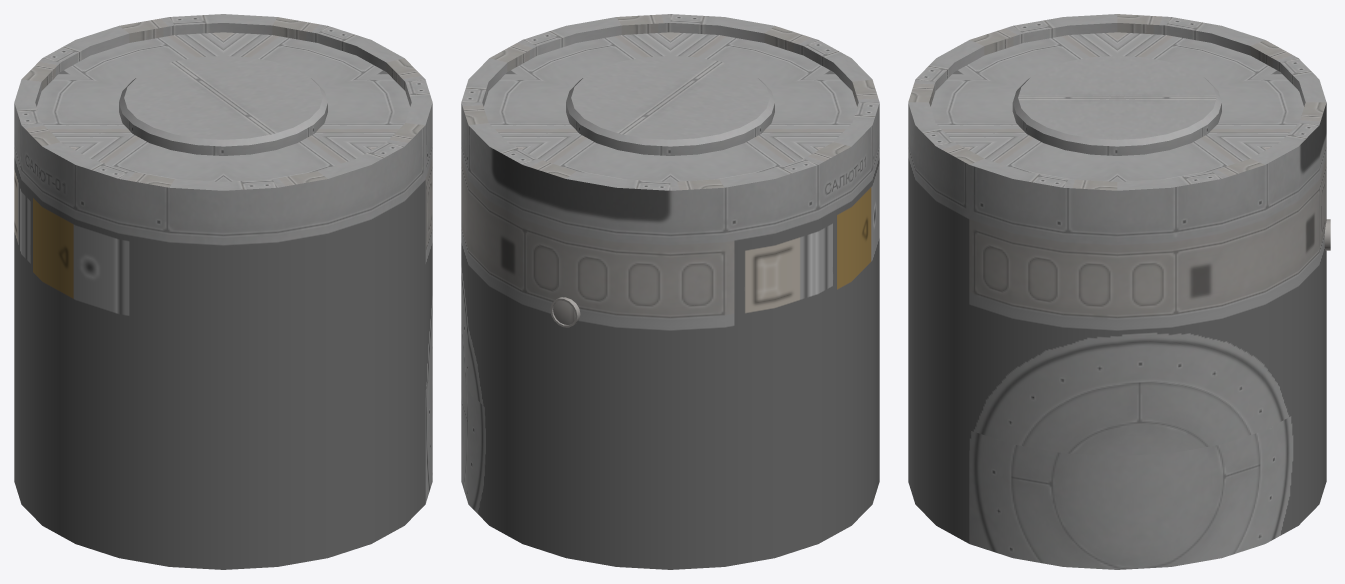
Rendered from Vega_Crew_2_1.obj.
The picture shows the model from 3 angles, left to right: view 1: azimuth 30°, elevation 25°; view 2: azimuth 150°, elevation 25°; view 3: azimuth 270°, elevation 25°; orthographic projection.
Parts seen in each view (by area): view 1: Vega_Crew_2_1; view 2: Vega_Crew_2_1; view 3: Vega_Crew_2_1.
Part boxes in pixels (x1,y1,x2,y2): Vega_Crew_2_1: (14,14,432,569); Vega_Crew_2_1: (461,14,879,569); Vega_Crew_2_1: (908,14,1330,569).
Size of the model in its own units: 2.5 by 2.56 by 2.52.
